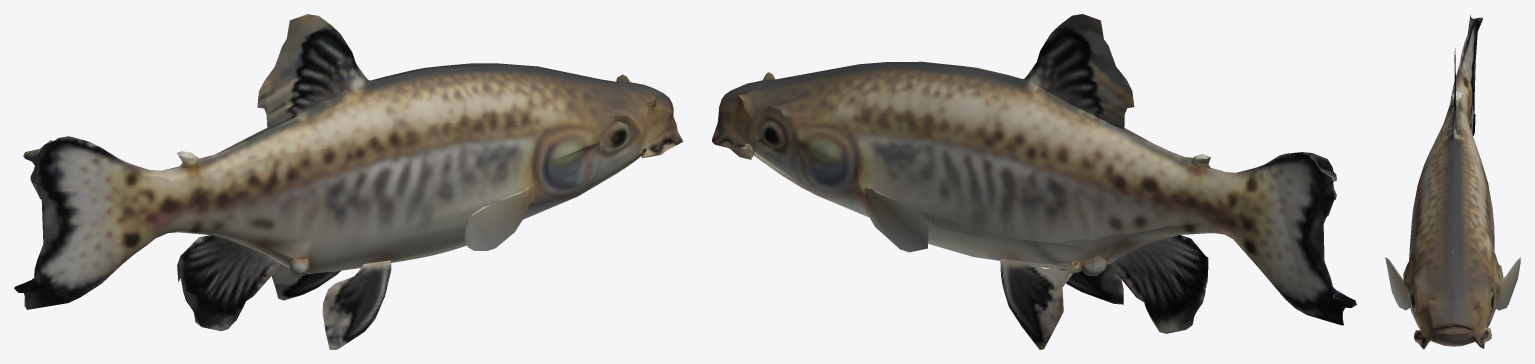
Rendered from peppered-cory.glb.
The picture shows the model from 3 angles, left to right: view 1: azimuth 30°, elevation 25°; view 2: azimuth 150°, elevation 25°; view 3: azimuth 270°, elevation 25°; orthographic projection. The views are drawn at different scales.
Visible parts, largest first — view 1: geometry_0; view 2: geometry_0; view 3: geometry_0.
Boxes of the visible parts, x1,y1,x2,y2 form: geometry_0: (14, 14, 683, 349); geometry_0: (712, 14, 1356, 349); geometry_0: (1385, 14, 1520, 349).
Bounding box in the file's own units: 1 × 0.4679 × 0.2305.
1 material, 1 textured.
